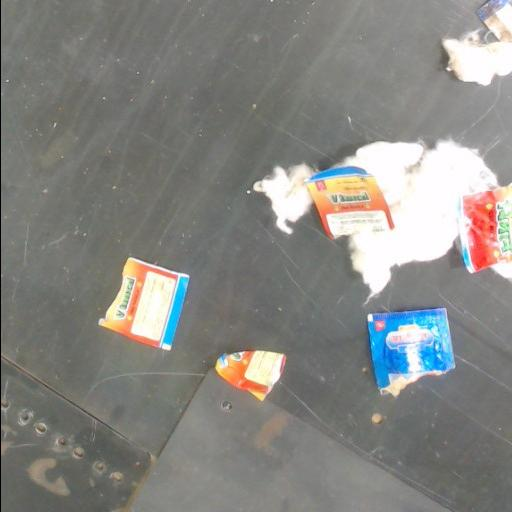conveyor belt: (1, 0, 512, 511)
cotton: (336, 139, 496, 296), (442, 31, 512, 85), (256, 163, 312, 226), (494, 263, 512, 281)
packet: (99, 258, 188, 350), (367, 308, 454, 392), (305, 168, 393, 237), (456, 185, 512, 272), (215, 350, 285, 399), (480, 0, 512, 40)
